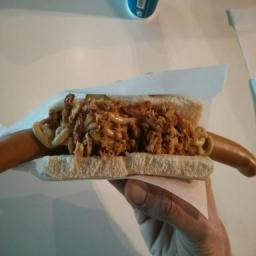hotdog: (202, 124, 256, 187), (0, 122, 38, 182)
